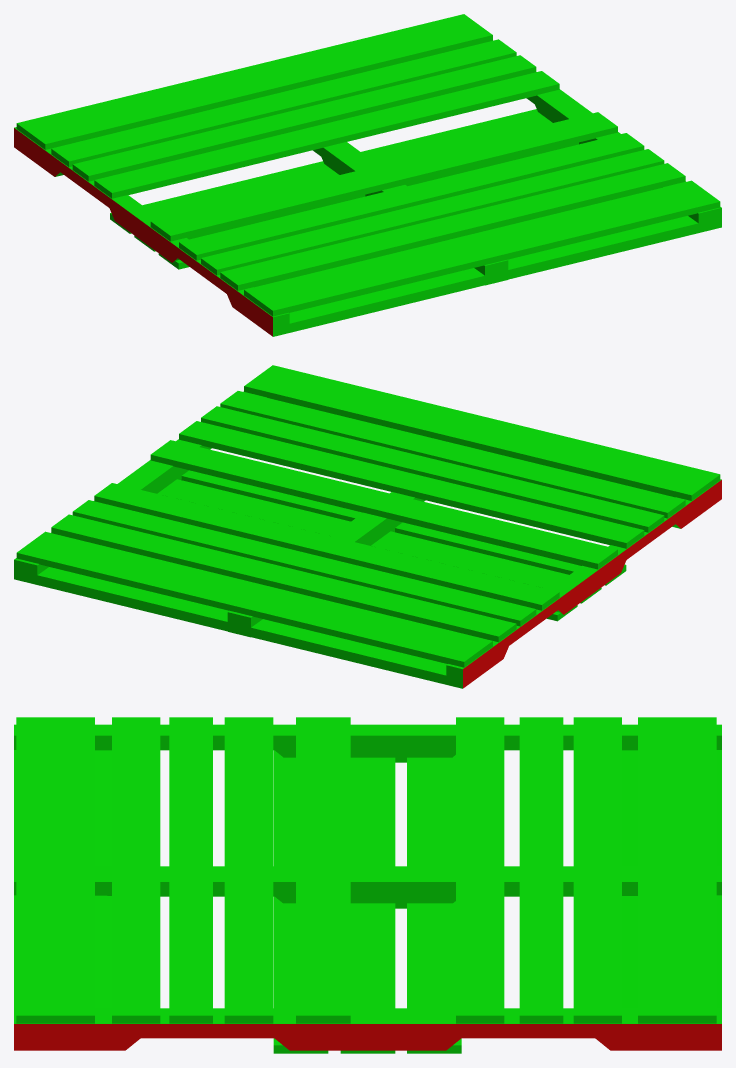
Rendered from Tf2_Pallet_export.fbx.
The picture shows the model from 3 angles, top to bottom: view 1: azimuth 30°, elevation 25°; view 2: azimuth 150°, elevation 25°; view 3: azimuth 270°, elevation 25°; orthographic projection. The views are drawn at different scales.
Visible parts, largest first — view 1: pCube16; view 2: pCube16; view 3: pCube16.
Boxes of the visible parts, left/top/right/bottom form: pCube16: left=14, top=14, right=721, bottom=336; pCube16: left=14, top=365, right=721, bottom=688; pCube16: left=14, top=717, right=721, bottom=1053.
Bounding box in the file's own units: 1.13 × 1.13 × 0.0668.
